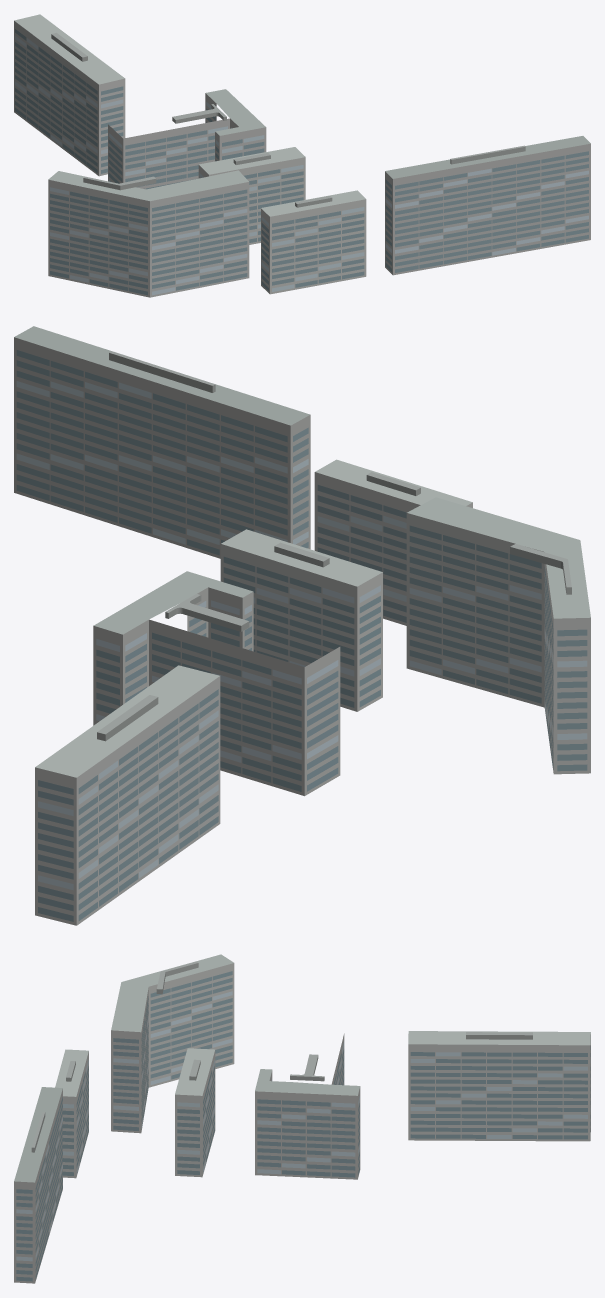
Rendered from apt-a15101903.glb.
3 renders of one model, top to bottom at view 1: azimuth 30°, elevation 25°; view 2: azimuth 150°, elevation 25°; view 3: azimuth 270°, elevation 25°, orthographic. The views are drawn at different scales.
Parts seen in each view (by area): view 1: apt-a15101903; view 2: apt-a15101903; view 3: apt-a15101903.
Boxes of the visible parts, x1,y1,x2,y2 form: apt-a15101903: (14,14,590,297); apt-a15101903: (14,326,590,925); apt-a15101903: (14,954,590,1283).
Bounding box in the file's own units: 190 × 41 × 203.
